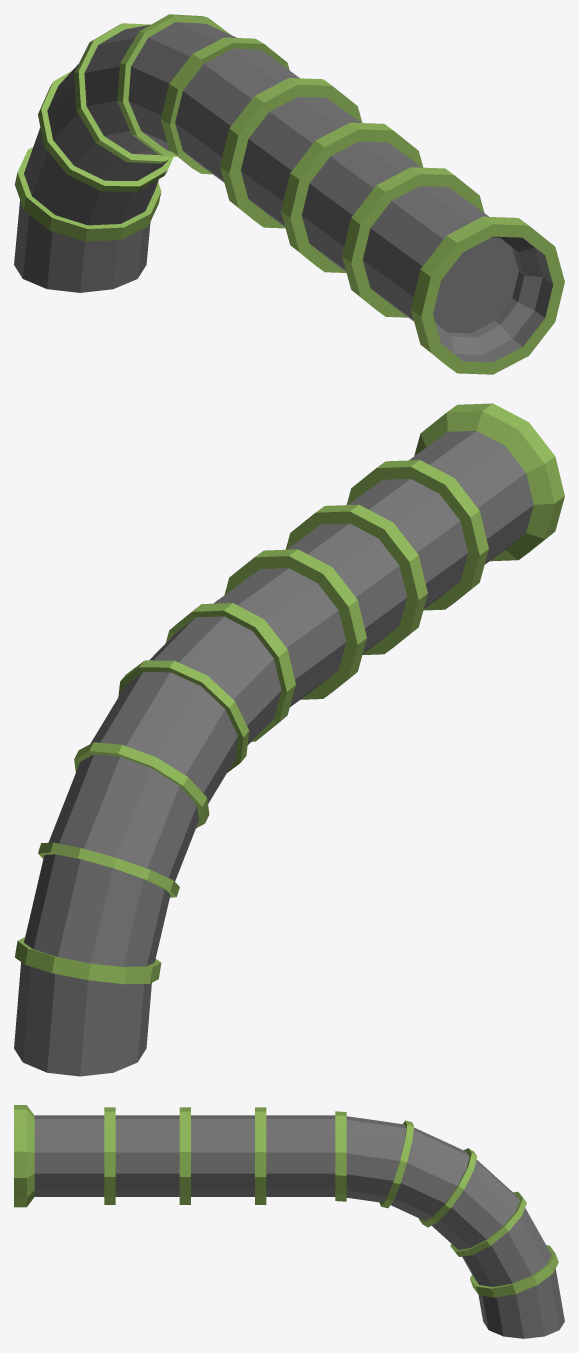
Rendered from Pipe_01.fbx.
The picture shows the model from 3 angles, top to bottom: view 1: azimuth 30°, elevation 25°; view 2: azimuth 150°, elevation 25°; view 3: azimuth 270°, elevation 25°; orthographic projection. The views are drawn at different scales.
Parts seen in each view (by area): view 1: Pipe_01; view 2: Pipe_01; view 3: Pipe_01.
Boxes of the visible parts, <box> form: Pipe_01: <box>14,14,564,374</box>; Pipe_01: <box>14,403,564,1076</box>; Pipe_01: <box>14,1105,564,1338</box>.
Bounding box in the file's own units: 100 × 228 × 538.
